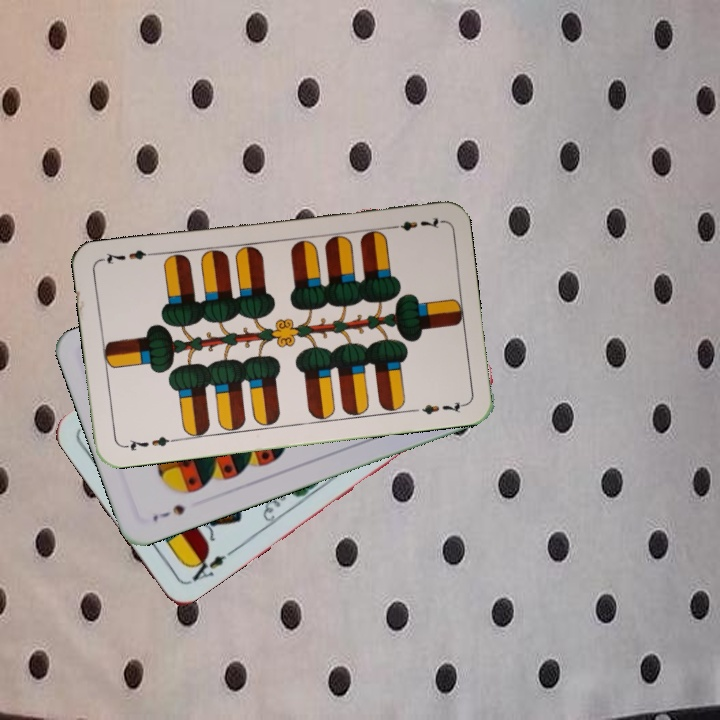E7: (119, 432, 178, 454), (385, 213, 444, 233)
EA: (184, 546, 236, 584)
S7: (148, 500, 188, 525)
